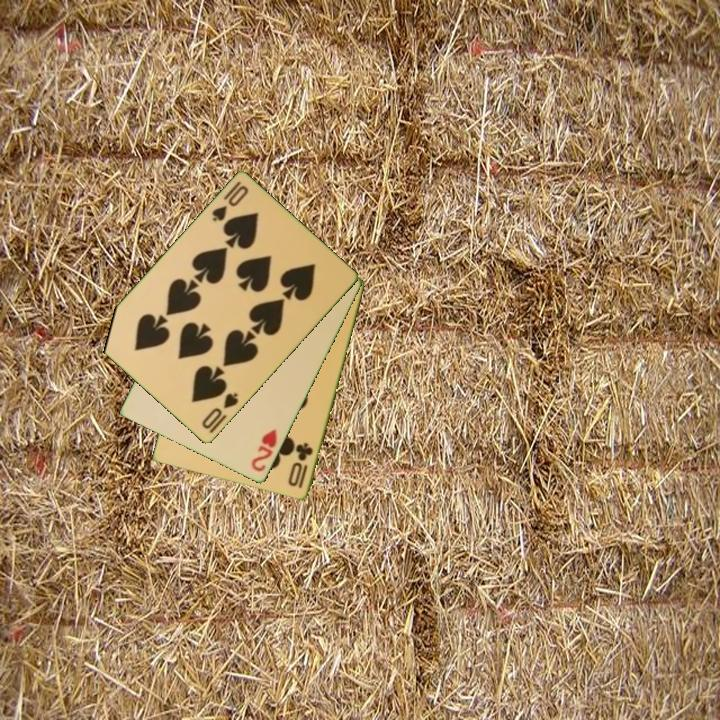10c: (285, 439, 316, 492)
10s: (208, 178, 251, 225), (198, 389, 241, 432)
2h: (248, 426, 280, 475)
